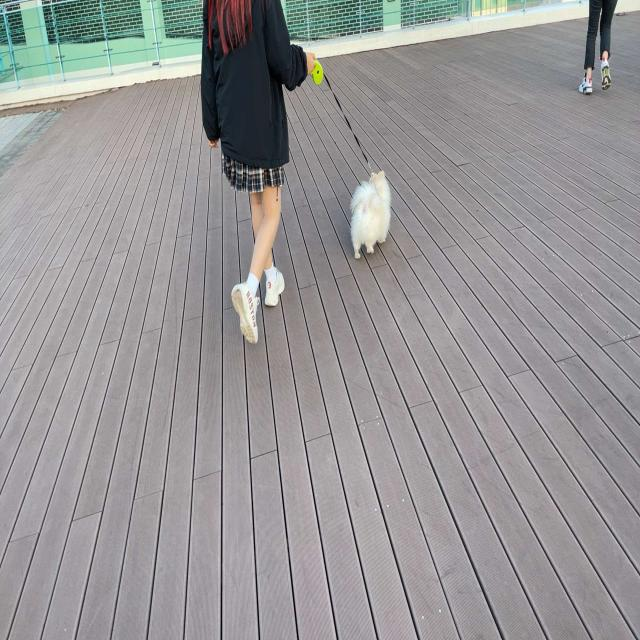Leashed_Dog: (251, 34, 392, 261)
